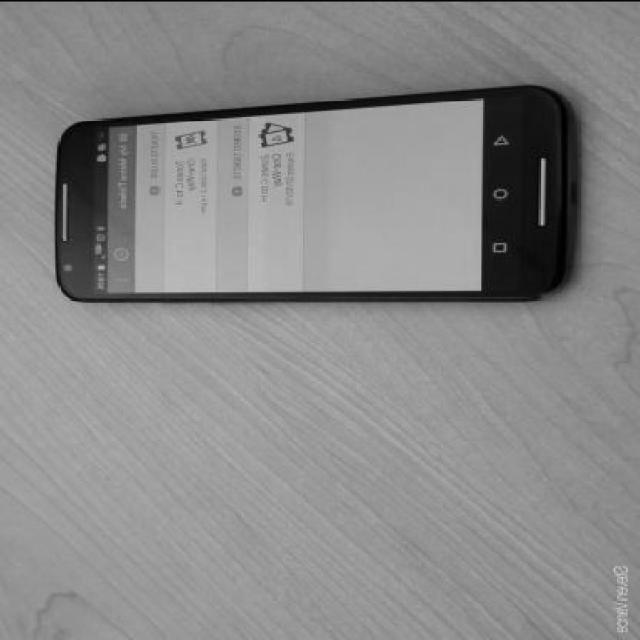fake: (54, 82, 580, 304)
